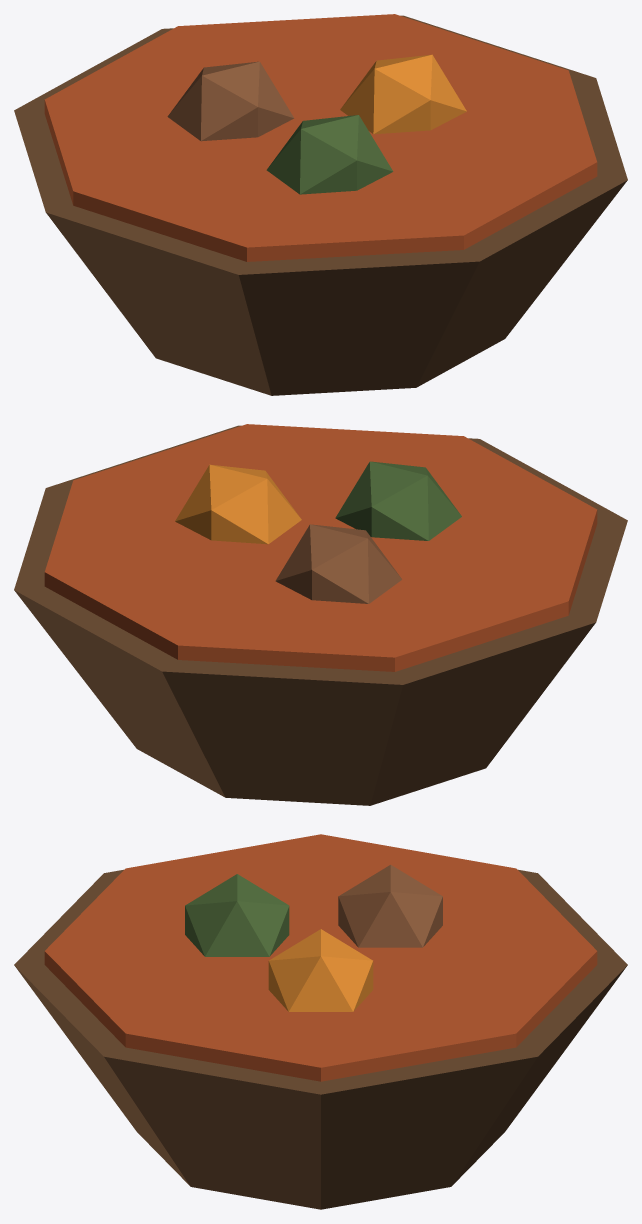
Rendered from stew.glb.
3 renders of one model, top to bottom at view 1: azimuth 30°, elevation 25°; view 2: azimuth 150°, elevation 25°; view 3: azimuth 270°, elevation 25°, orthographic. The views are drawn at different scales.
Parts seen in each view (by area): view 1: stew; view 2: stew; view 3: stew.
Part boxes in pixels (<box>): stew: <box>14,14,627,395</box>; stew: <box>14,424,627,805</box>; stew: <box>14,834,627,1209</box>.
Bounding box in the file's own units: 0.2 × 0.082 × 0.2.
